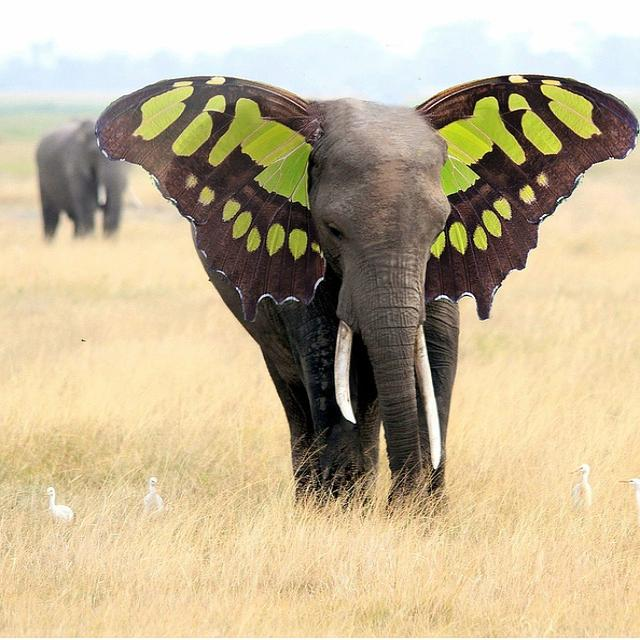elephant: (97, 75, 637, 496)
